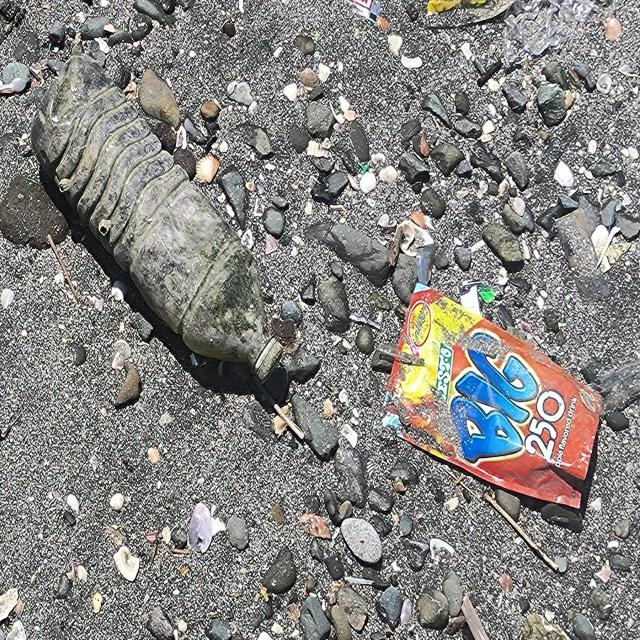plastic_waste: (30, 52, 286, 387), (382, 281, 606, 514)
